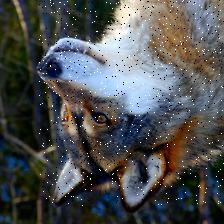WOLF: (39, 0, 224, 206)
